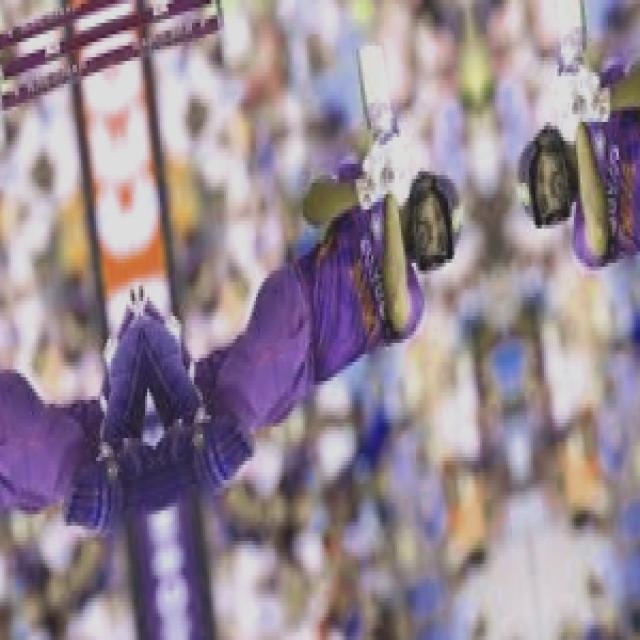toe: (354, 33, 386, 68)
